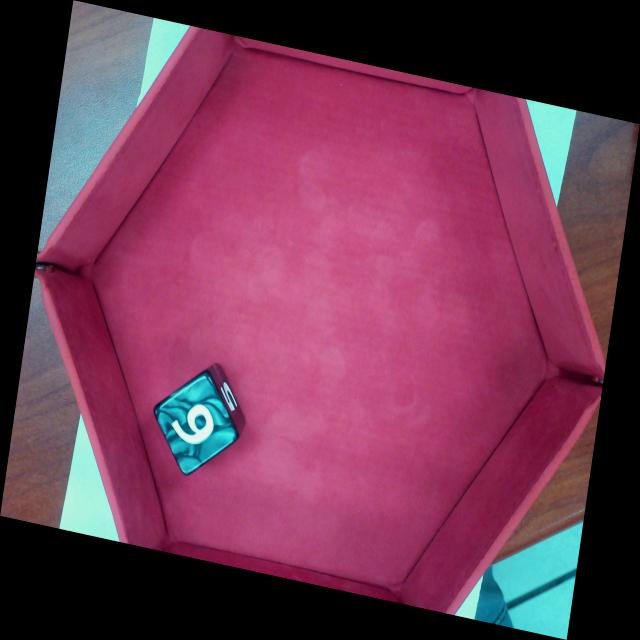dice: (151, 368, 240, 478)
